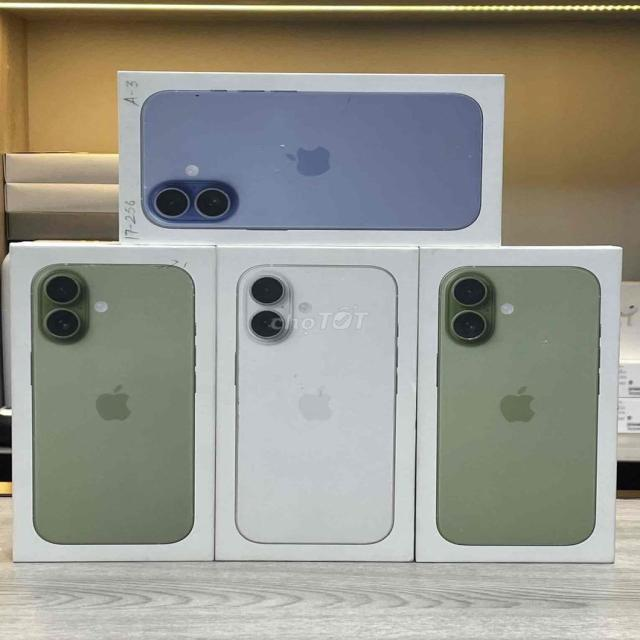gen_17: (231, 257, 409, 550), (26, 260, 201, 550), (435, 255, 605, 552), (140, 88, 486, 230)
